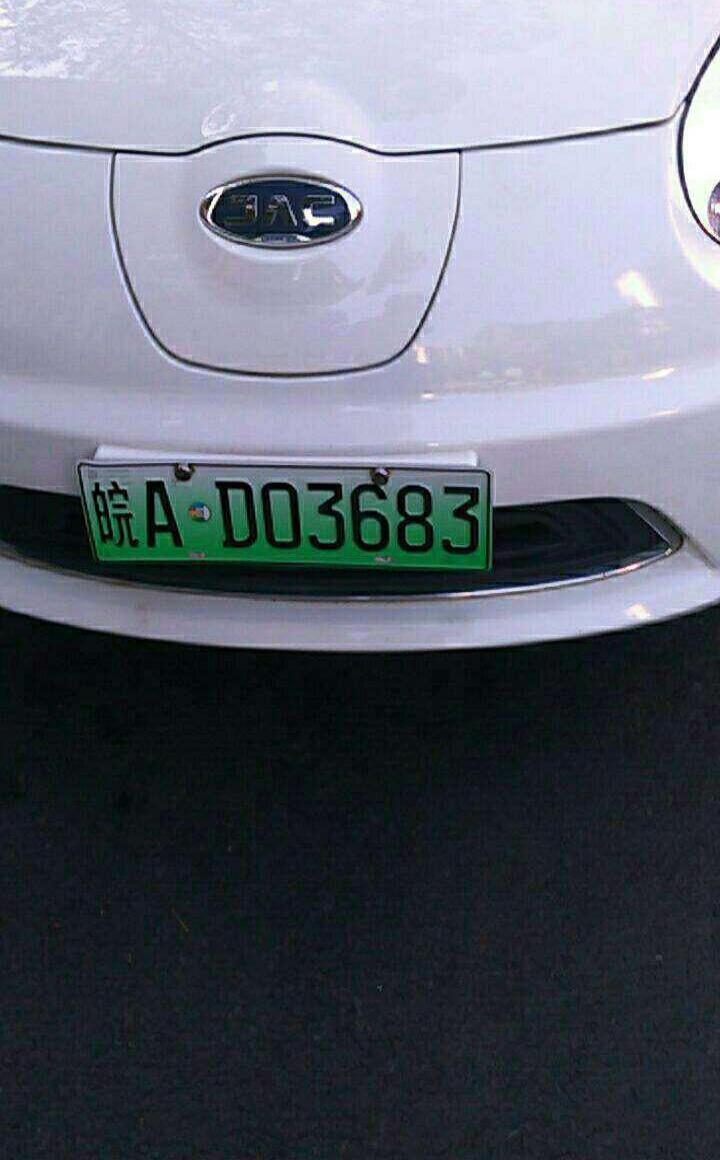car_id: (78, 459, 498, 563)
